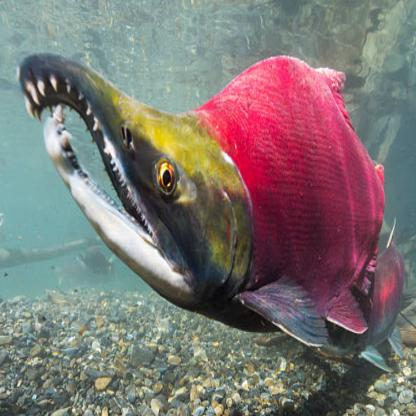sockeye: (17, 37, 400, 358)
